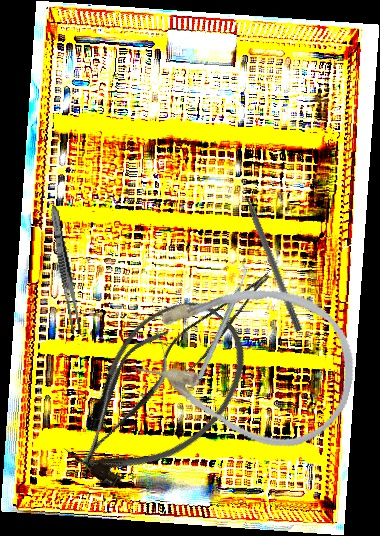Cannula: (42, 277, 272, 514), (123, 260, 370, 462)
Chopper: (160, 261, 284, 382)
Dressing Forceps: (46, 203, 85, 337)
Micro Scissor: (60, 317, 188, 479), (148, 269, 287, 386)
Pusher: (237, 176, 304, 333)
